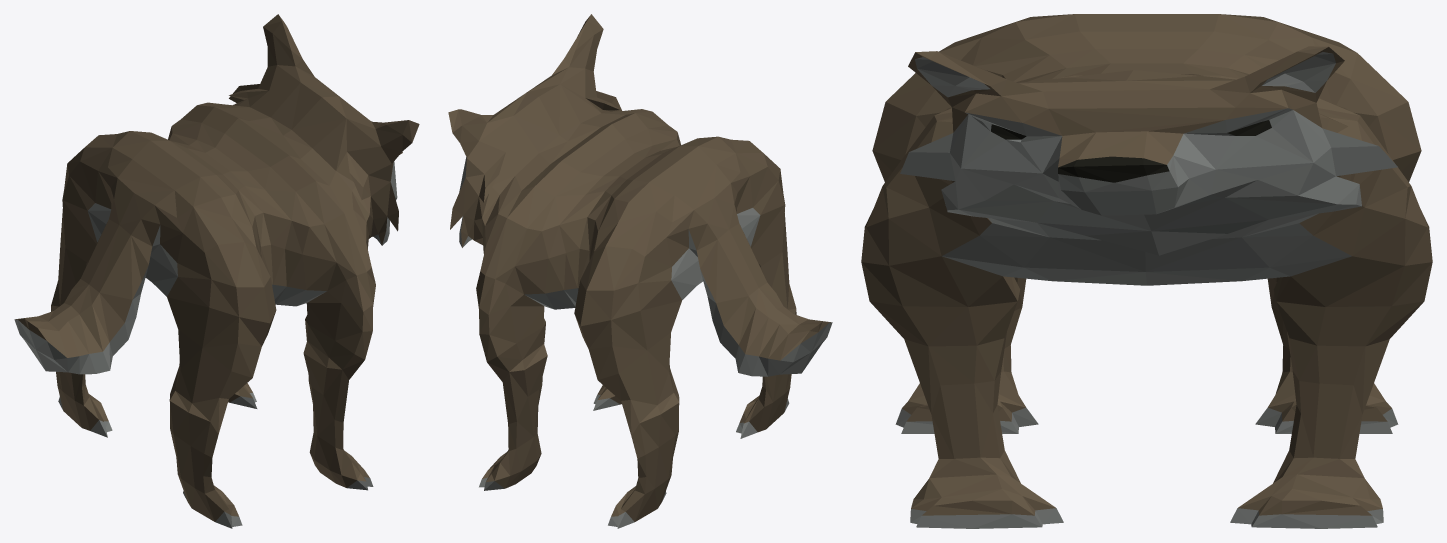
Rendered from wolf.glb.
3 views of the same model, side by side, from view 1: azimuth 30°, elevation 25°; view 2: azimuth 150°, elevation 25°; view 3: azimuth 270°, elevation 25° (orthographic). The views are drawn at different scales.
Bounding box in the file's own units: 1 × 0.9999 × 1.
